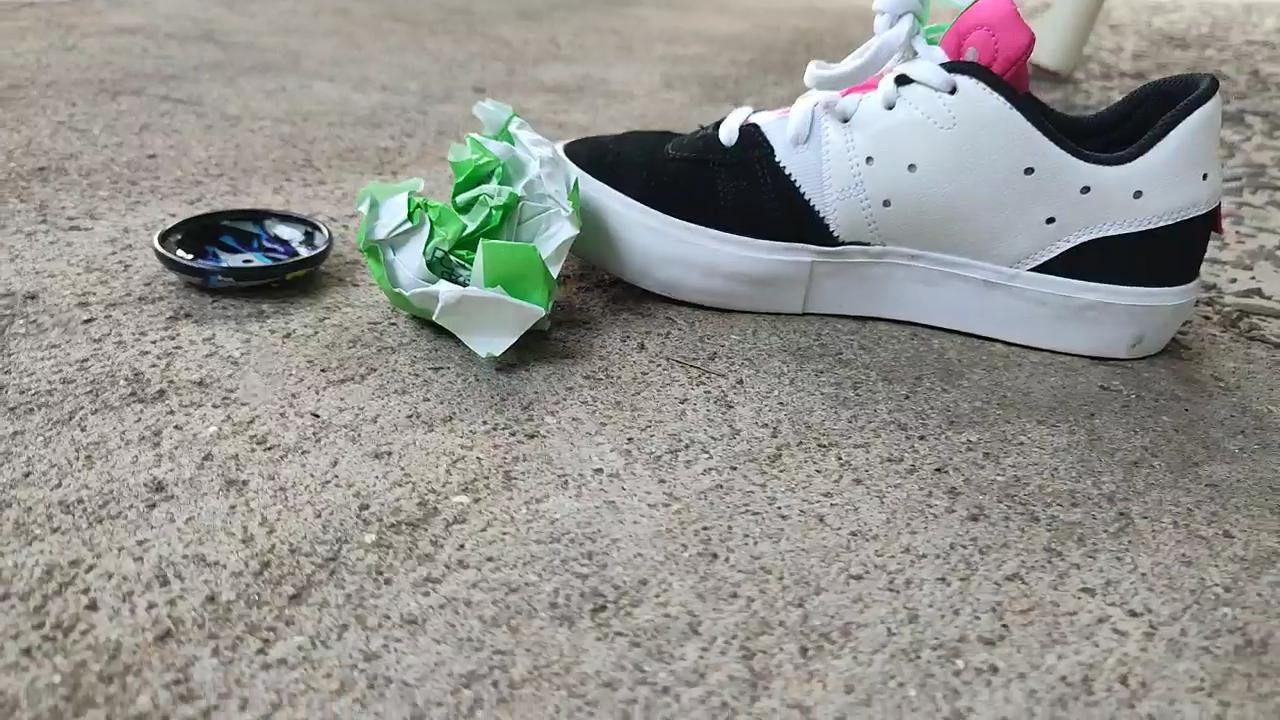Paper: (356, 92, 585, 368)
